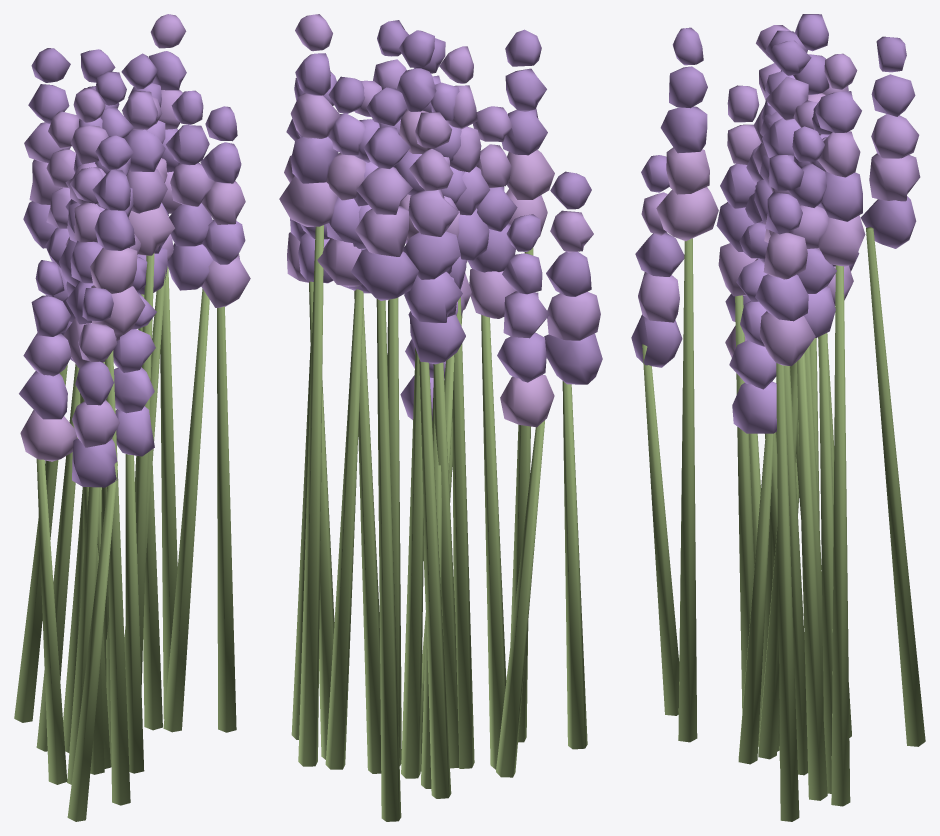
File: lavender_1.glb
The picture shows the model from 3 angles, left to right: view 1: azimuth 30°, elevation 25°; view 2: azimuth 150°, elevation 25°; view 3: azimuth 270°, elevation 25°; orthographic projection. The views are drawn at different scales.
Parts seen in each view (by area): view 1: lavender; view 2: lavender; view 3: lavender.
Part boxes in pixels (box(x1,y1,x2,y2)): lavender: box(14, 14, 250, 821); lavender: box(279, 14, 602, 821); lavender: box(631, 14, 925, 821).
Bounding box in the file's own units: 0.2197 × 0.6359 × 0.2273.
